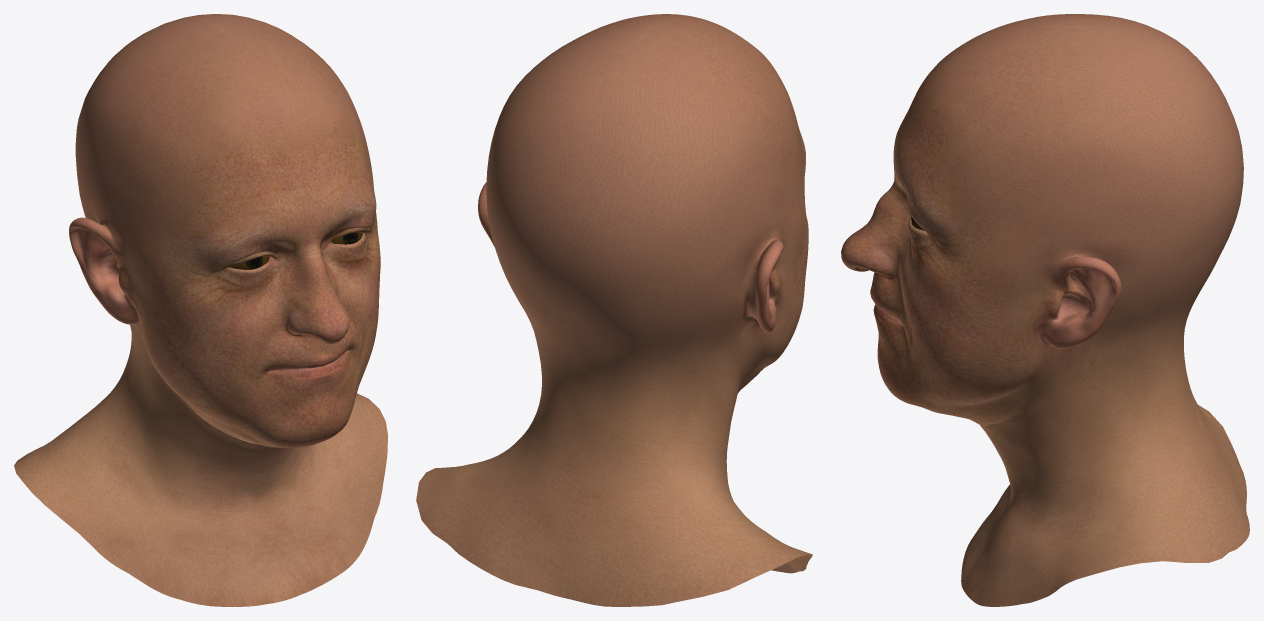
The picture shows the model from 3 angles, left to right: view 1: azimuth 30°, elevation 25°; view 2: azimuth 150°, elevation 25°; view 3: azimuth 270°, elevation 25°; orthographic projection. The views are drawn at different scales.
Visible parts, largest first — view 1: Registered head; view 2: Registered head; view 3: Registered head.
Boxes of the visible parts, box(x1,y1,x2,y2) form: Registered head: box(14, 14, 387, 606); Registered head: box(416, 14, 812, 606); Registered head: box(841, 14, 1249, 606).
Bounding box in the file's own units: 1.26 × 1.83 × 1.24.
3 materials, 3 textured.
